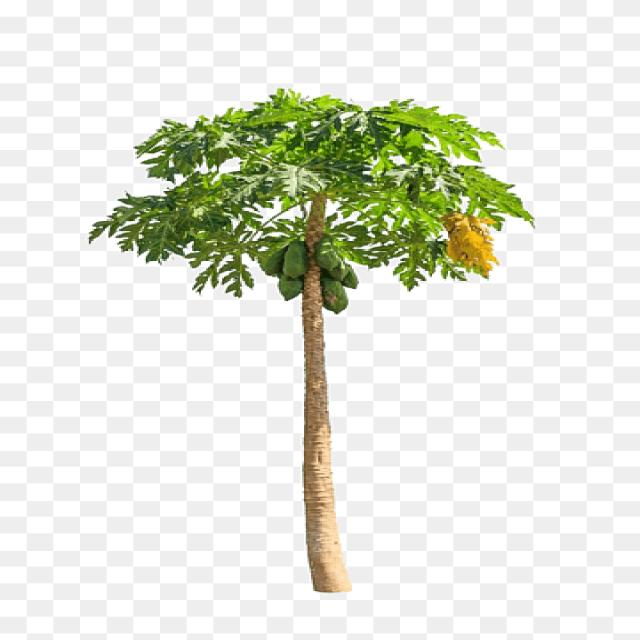Papaya-Tree: (75, 86, 543, 574)
